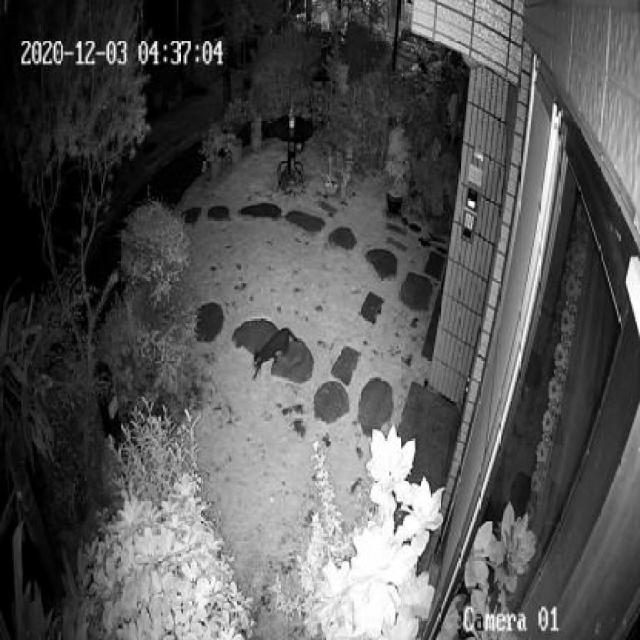animals: (246, 320, 306, 386)
